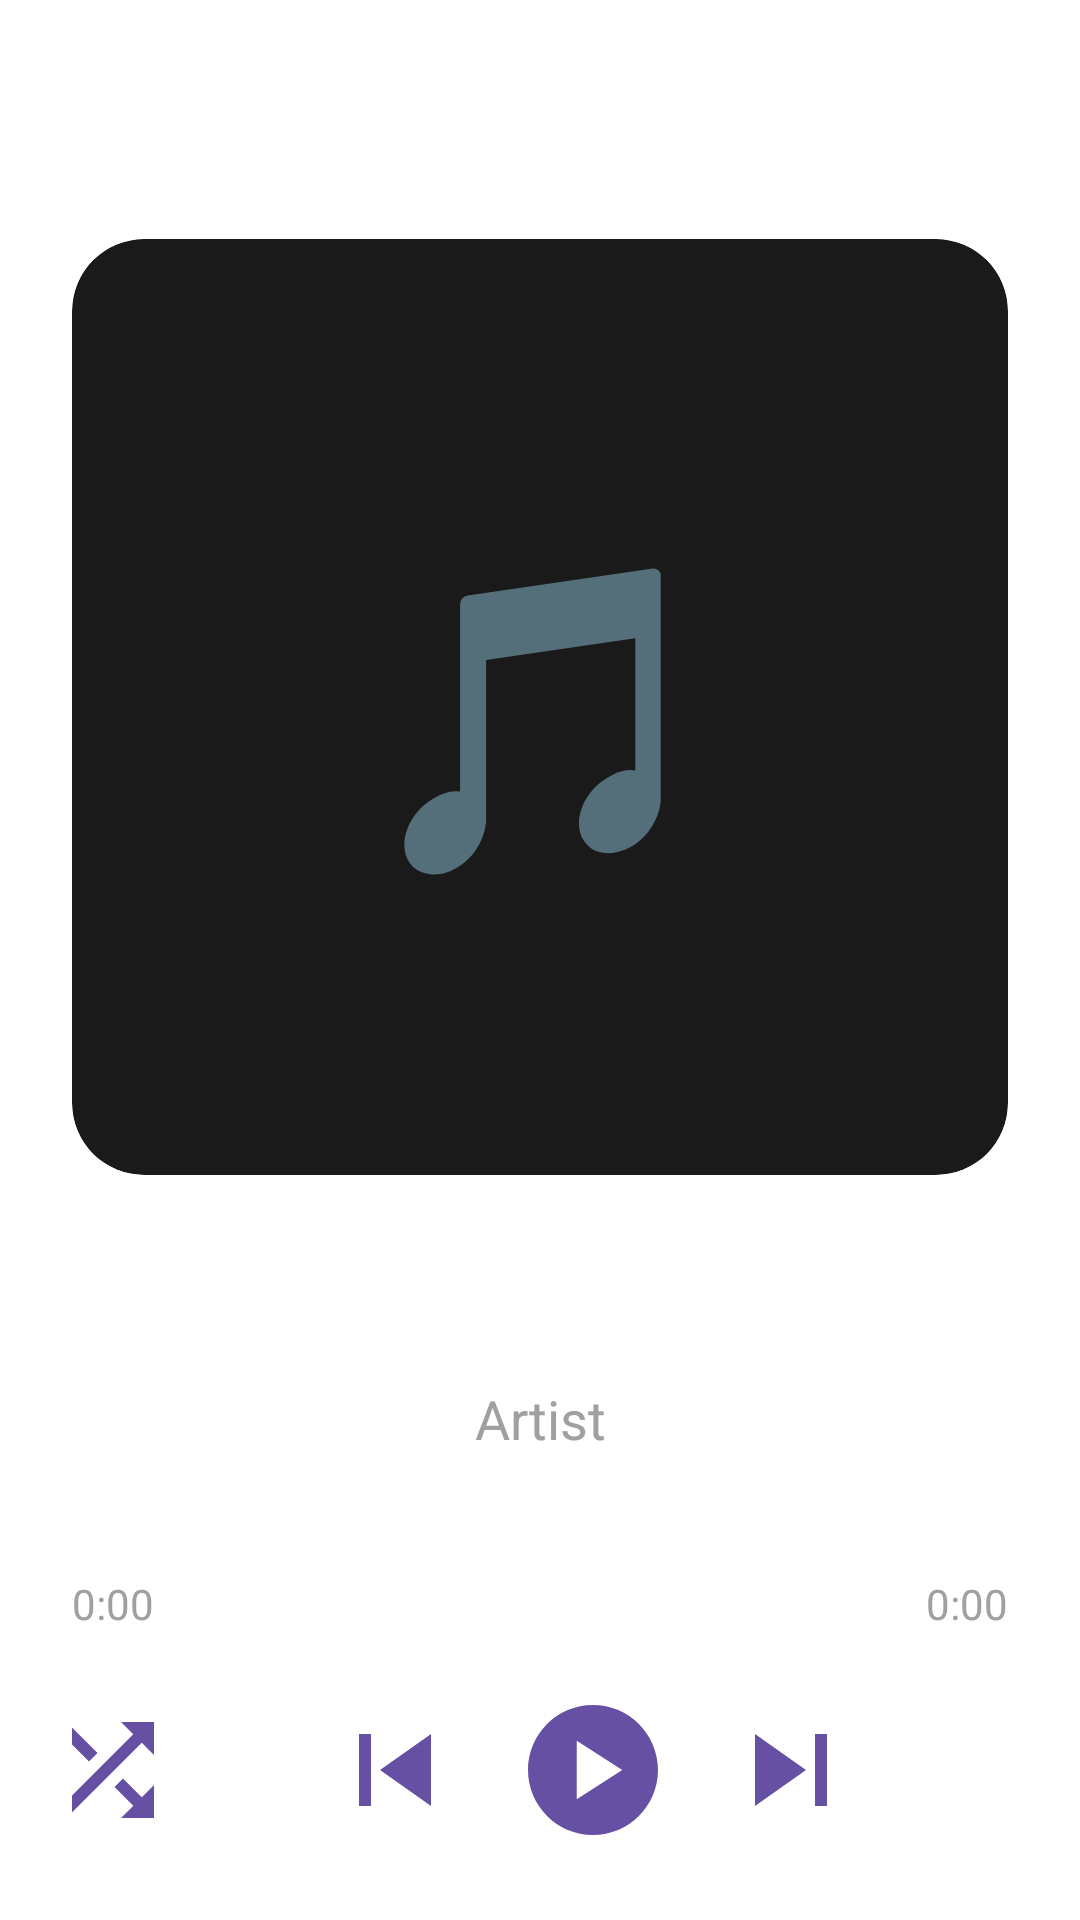

Locate icon controls on the screen. Image size 1080 x 1920, boxes as box(x1, y1, x2, y2).
Next Song: box(755, 1734, 827, 1806)
Play or Pause: box(528, 1705, 658, 1835)
Previous Song: box(359, 1734, 431, 1806)
